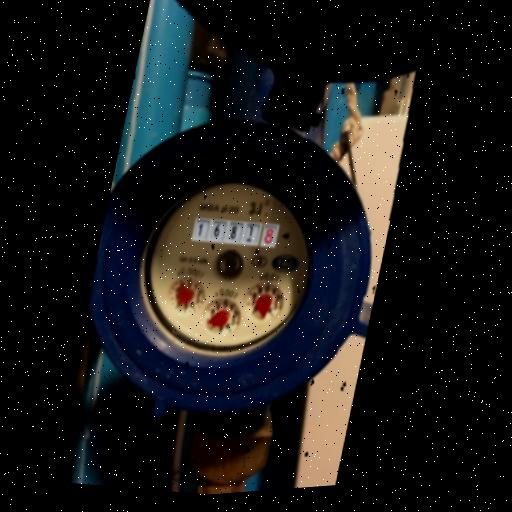1: (192, 219, 208, 240), (243, 223, 259, 244)
6: (210, 220, 225, 240)
8: (226, 222, 243, 243), (261, 225, 276, 245)
border_water_meter_number: (190, 210, 280, 252)
